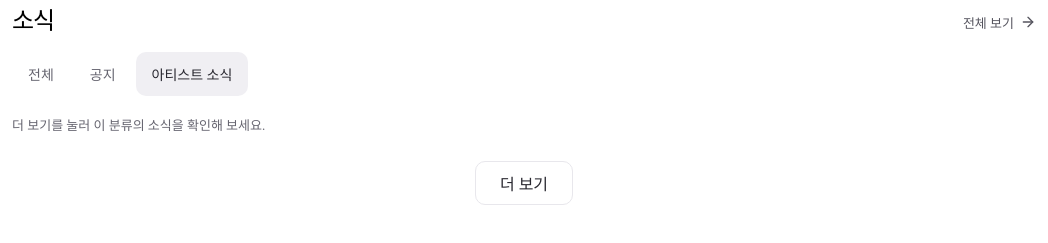
creator news › keeps a filtered home preview discoverable when matching updates are on the next page
Expected: the text "더 보기를 눌러 이 분류의 소식을 확인해 보세요." is shown, 12,118 -> 265,133
Click the button "더 보기" at point(524, 183), box 475,161 -> 573,205
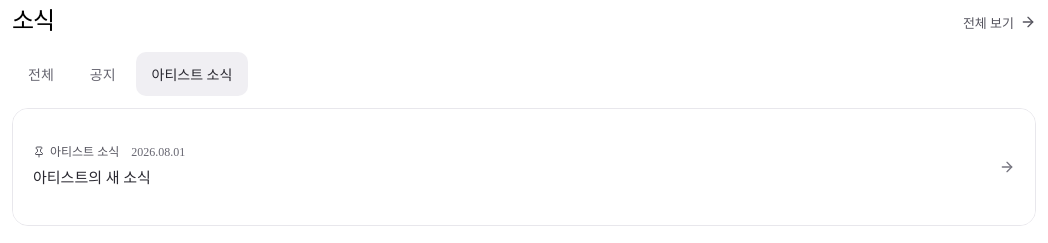
Now the text "아티스트의 새 소식" is shown, box 33,170 -> 151,186
